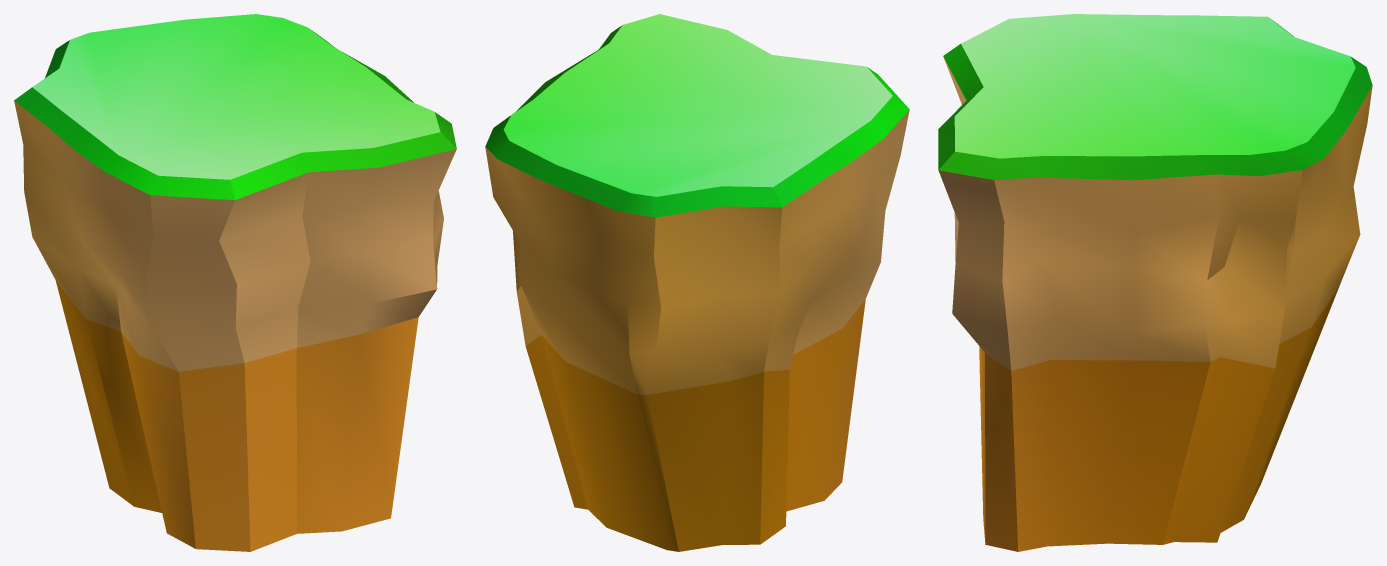
The model's file is Deneme.fbx.
3 views of the same model, side by side, from view 1: azimuth 30°, elevation 25°; view 2: azimuth 150°, elevation 25°; view 3: azimuth 270°, elevation 25° (orthographic). The views are drawn at different scales.
Visible parts, largest first — view 1: Plane.010; view 2: Plane.010; view 3: Plane.010.
Boxes of the visible parts, x1,y1,x2,y2 form: Plane.010: (14, 14, 456, 551); Plane.010: (485, 14, 909, 551); Plane.010: (938, 14, 1372, 551).
Size of the model in its own units: 1865 by 2245 by 2141.
Materials: 1 (1 with a texture image).
